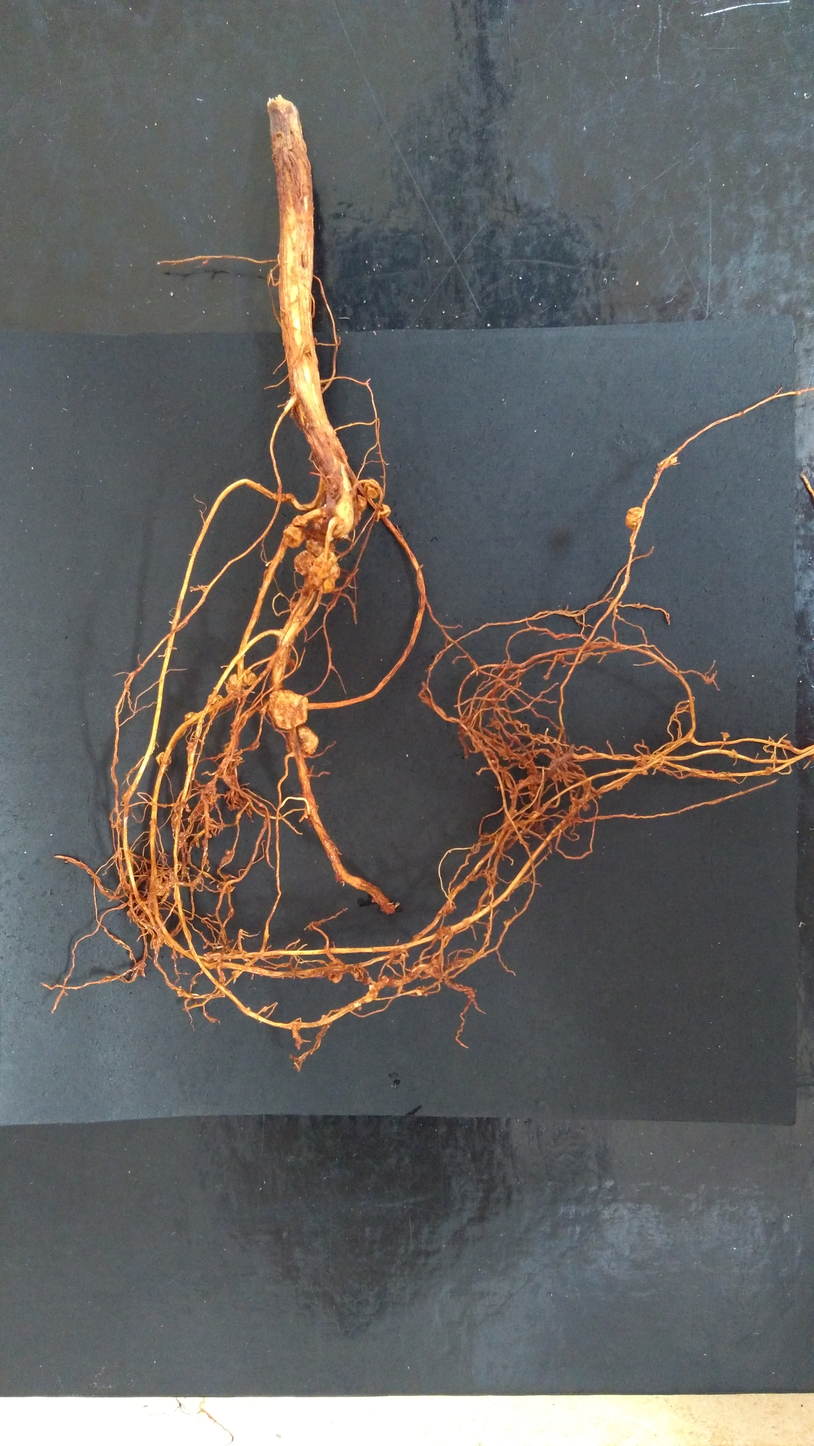nodule: (266, 688, 311, 731), (308, 550, 343, 595), (295, 722, 320, 756), (292, 548, 316, 578), (282, 523, 306, 550), (623, 504, 645, 532), (326, 958, 346, 985), (304, 537, 328, 558), (362, 477, 381, 500), (152, 878, 174, 897), (241, 667, 260, 688), (183, 710, 205, 727), (155, 750, 173, 768), (224, 672, 238, 695), (356, 494, 369, 514), (291, 514, 309, 528), (206, 693, 223, 705), (381, 502, 391, 518)
